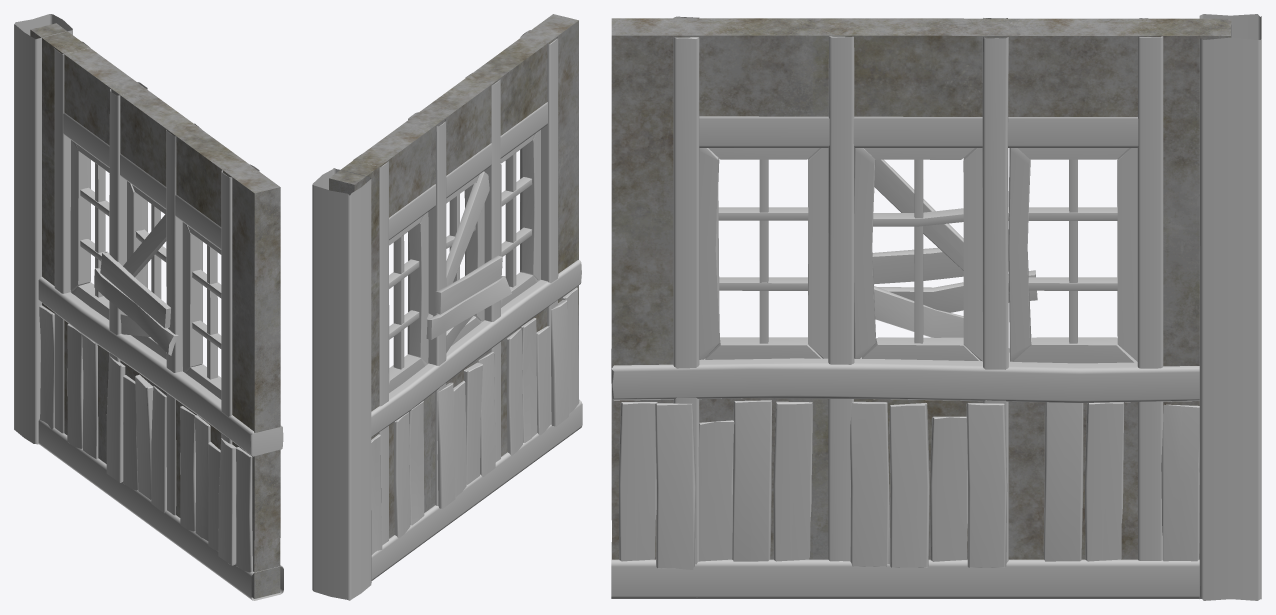
The model's file is SM_WallWindowLarge05.fbx.
The picture shows the model from 3 angles, left to right: view 1: azimuth 30°, elevation 25°; view 2: azimuth 150°, elevation 25°; view 3: azimuth 270°, elevation 25°; orthographic projection. The views are drawn at different scales.
Visible parts, largest first — view 1: SM_WallWindowLarge05_LOD0; view 2: SM_WallWindowLarge05_LOD0; view 3: SM_WallWindowLarge05_LOD0.
Part boxes in pixels (bbox=[...]): SM_WallWindowLarge05_LOD0: bbox=[14, 14, 283, 600]; SM_WallWindowLarge05_LOD0: bbox=[312, 14, 582, 600]; SM_WallWindowLarge05_LOD0: bbox=[611, 14, 1261, 600].
Size of the model in its own units: 33.01 by 315 by 302.
